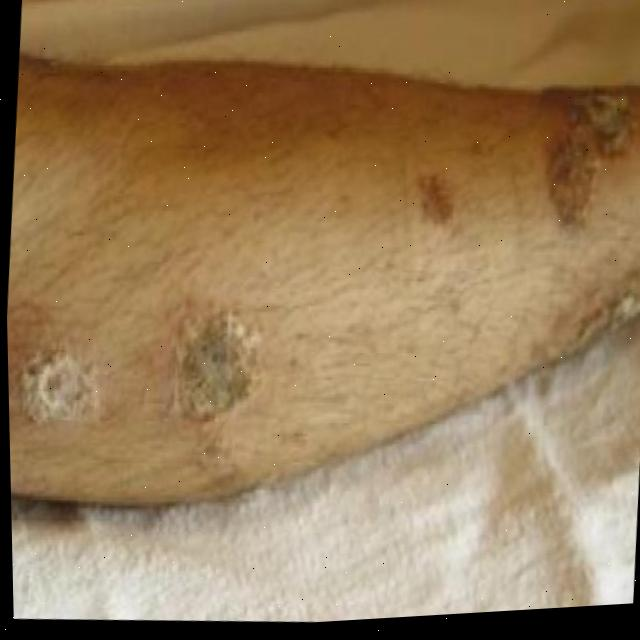Eczema: (520, 110, 621, 223), (175, 321, 265, 442), (27, 355, 112, 442)
